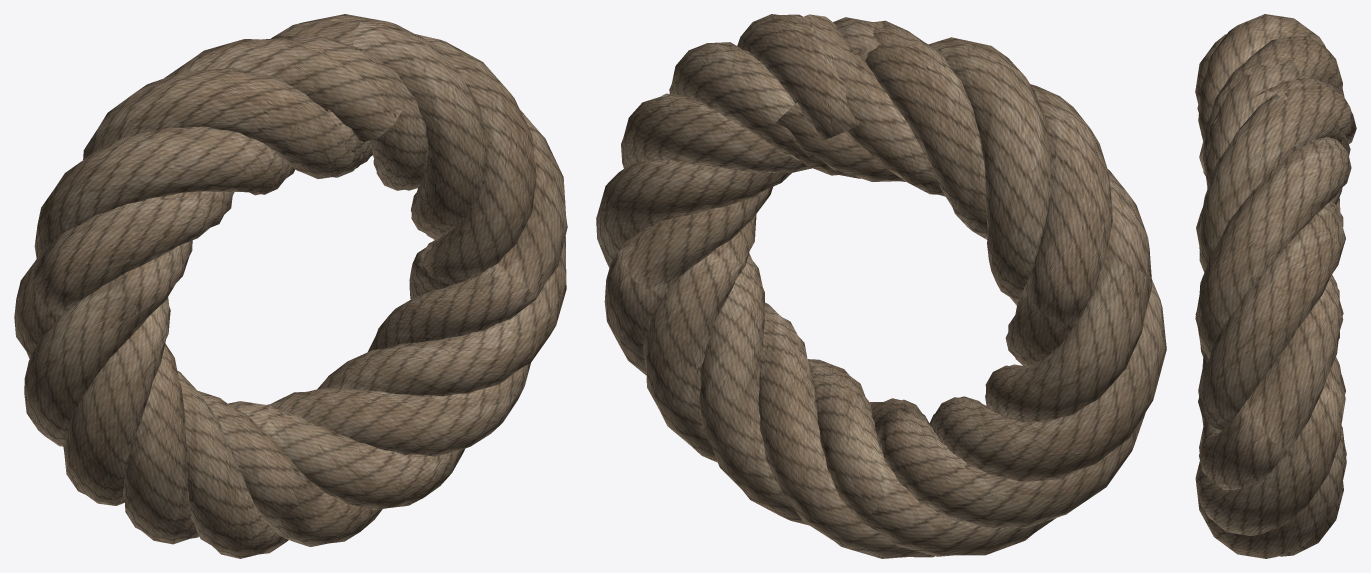
File: ufakCember.fbx
The picture shows the model from 3 angles, left to right: view 1: azimuth 30°, elevation 25°; view 2: azimuth 150°, elevation 25°; view 3: azimuth 270°, elevation 25°; orthographic projection. The views are drawn at different scales.
Visible parts, largest first — view 1: Circle.001; view 2: Circle.001; view 3: Circle.001.
Boxes of the visible parts, left/top/right/bottom form: Circle.001: left=14, top=14, right=567, bottom=558; Circle.001: left=596, top=14, right=1166, bottom=558; Circle.001: left=1195, top=14, right=1356, bottom=558.
Size of the model in its own units: 460 by 416 by 129.
